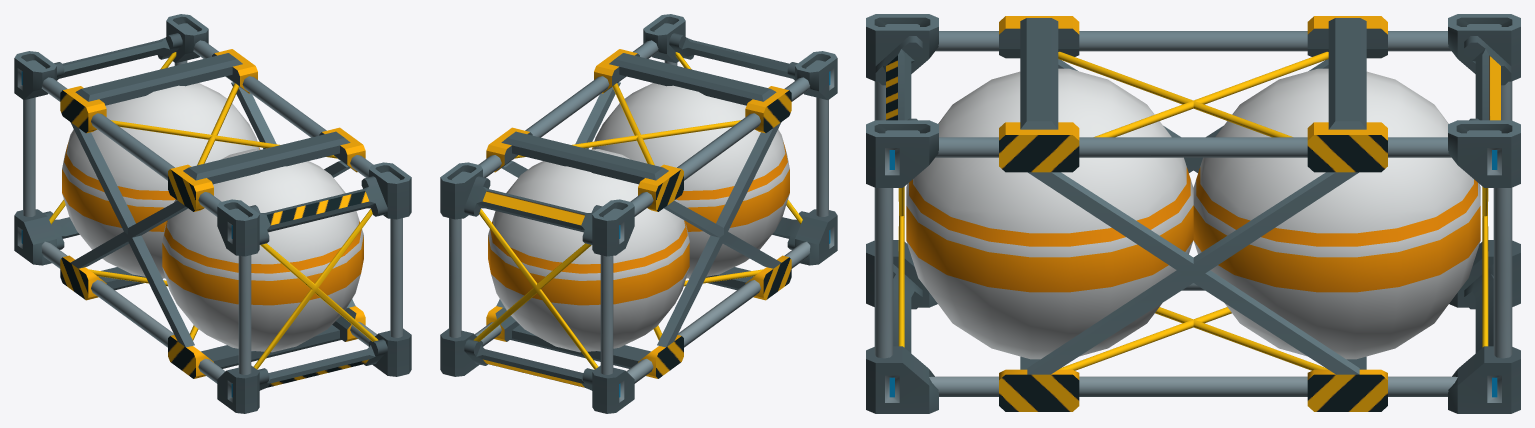
File: Gas_cistern_type_A_002.fbx
3 views of the same model, side by side, from view 1: azimuth 30°, elevation 25°; view 2: azimuth 150°, elevation 25°; view 3: azimuth 270°, elevation 25° (orthographic). The views are drawn at different scales.
Parts seen in each view (by area): view 1: Gas_cistern_type_A_002; view 2: Gas_cistern_type_A_002; view 3: Gas_cistern_type_A_002.
Boxes of the visible parts, x1,y1,x2,y2 form: Gas_cistern_type_A_002: [14, 14, 411, 413]; Gas_cistern_type_A_002: [440, 14, 837, 413]; Gas_cistern_type_A_002: [866, 14, 1520, 413].
Bounding box in the file's own units: 240 × 540 × 263.
